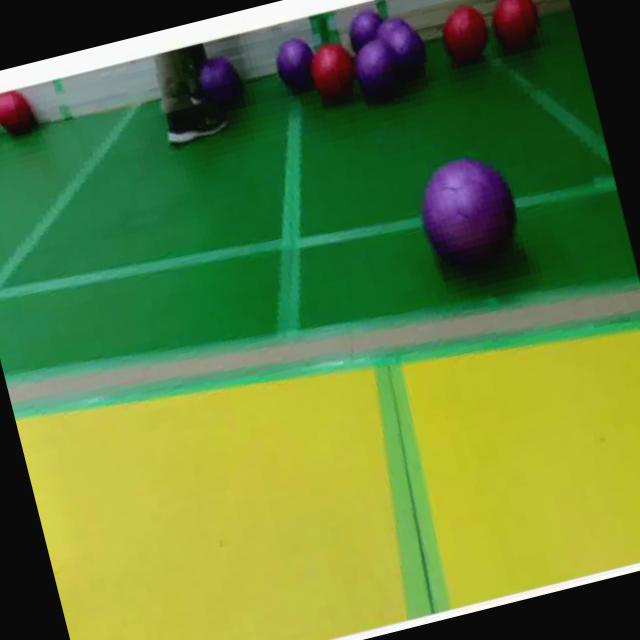purple_ball: (411, 151, 530, 300), (372, 14, 435, 88), (347, 35, 410, 107), (197, 55, 251, 117), (274, 32, 316, 97), (344, 5, 391, 54)
red_ball: (432, 0, 497, 78), (486, 0, 548, 60), (304, 45, 358, 108), (0, 88, 40, 144)
